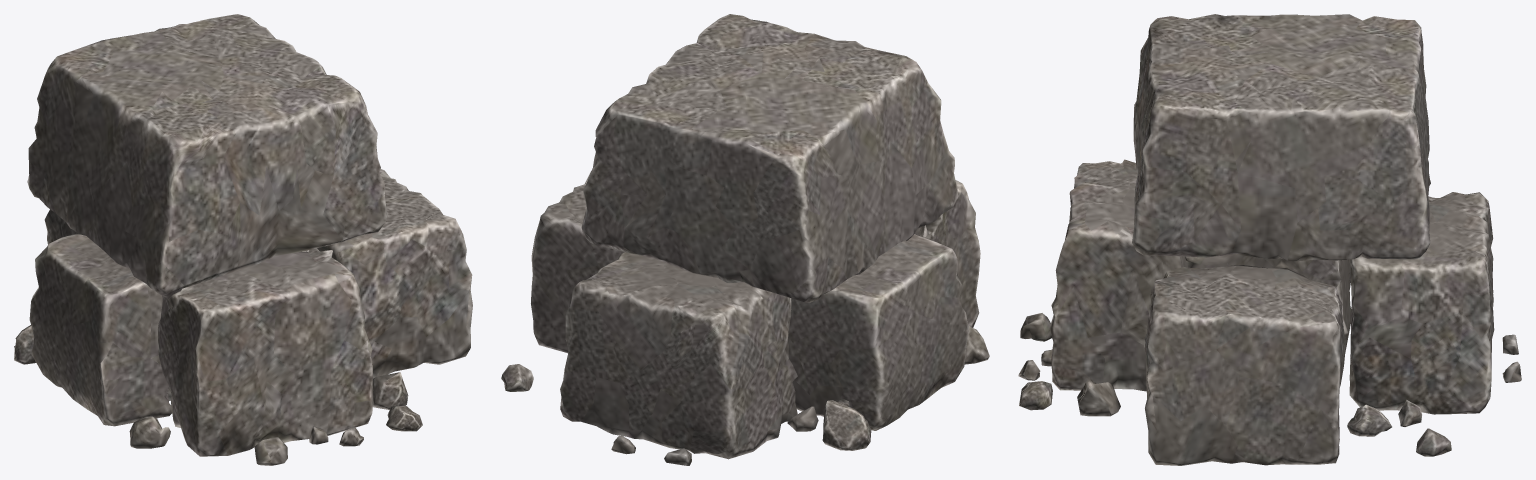
Rendered from res_pietra.glb.
3 renders of one model, left to right at view 1: azimuth 30°, elevation 25°; view 2: azimuth 150°, elevation 25°; view 3: azimuth 270°, elevation 25°, orthographic. The views are drawn at different scales.
Bounding box in the file's own units: 0.8242 × 0.6411 × 0.9556.
1 material, 1 textured.
